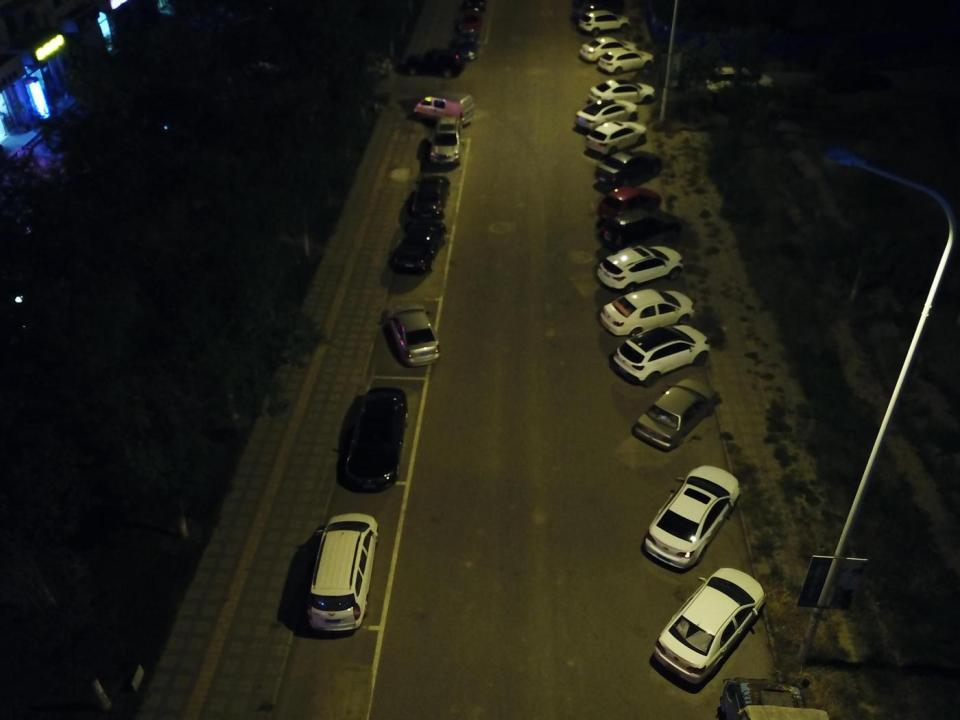car: (651, 564, 768, 686), (642, 459, 740, 574), (343, 381, 406, 495), (630, 381, 721, 452), (610, 324, 713, 385), (601, 285, 698, 344), (596, 245, 683, 291), (386, 298, 441, 369), (389, 214, 448, 276), (602, 210, 679, 251), (704, 61, 780, 99), (588, 147, 659, 183), (396, 45, 465, 82), (597, 185, 663, 220), (586, 119, 647, 154), (406, 174, 451, 221), (424, 117, 467, 166), (573, 98, 638, 130), (584, 77, 656, 104), (343, 43, 391, 82), (580, 34, 640, 61), (595, 49, 654, 75), (577, 10, 632, 36), (453, 30, 478, 60), (458, 7, 484, 33)
van: (302, 509, 378, 635), (411, 92, 475, 125)
